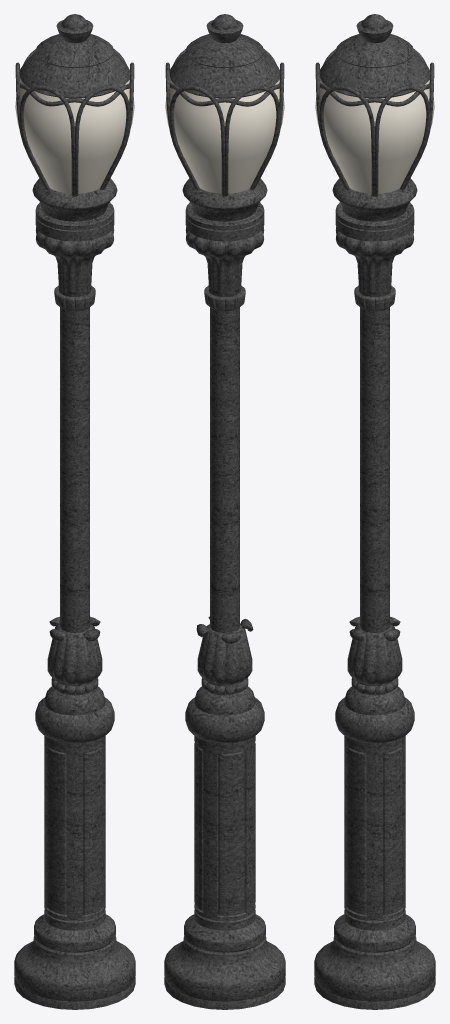
The model's file is street_lamp.obj.
The picture shows the model from 3 angles, left to right: view 1: azimuth 90°, elevation 25°; view 2: azimuth 150°, elevation 25°; view 3: azimuth 270°, elevation 25°; orthographic projection.
Visible parts, largest first — view 1: 001_lamp_, 000_glass; view 2: 001_lamp_, 000_glass; view 3: 001_lamp_, 000_glass.
Part boxes in pixels (bbox=[...]): 001_lamp_: bbox=[14, 14, 135, 1009]; 000_glass: bbox=[15, 79, 134, 193]; 001_lamp_: bbox=[164, 14, 285, 1009]; 000_glass: bbox=[165, 79, 284, 193]; 001_lamp_: bbox=[314, 14, 435, 1009]; 000_glass: bbox=[315, 79, 434, 193].
Bounding box in the file's own units: 47.85 × 392 × 44.46.
Materials: 2 (1 with a texture image).
